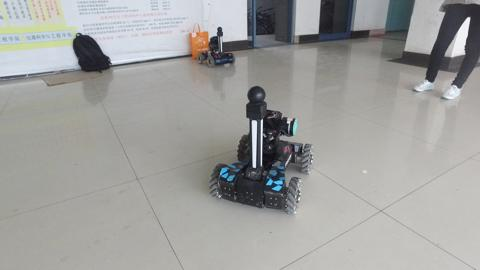bag: (70, 31, 114, 75), (187, 20, 211, 60)
chariot: (208, 85, 314, 216), (195, 23, 236, 67)
